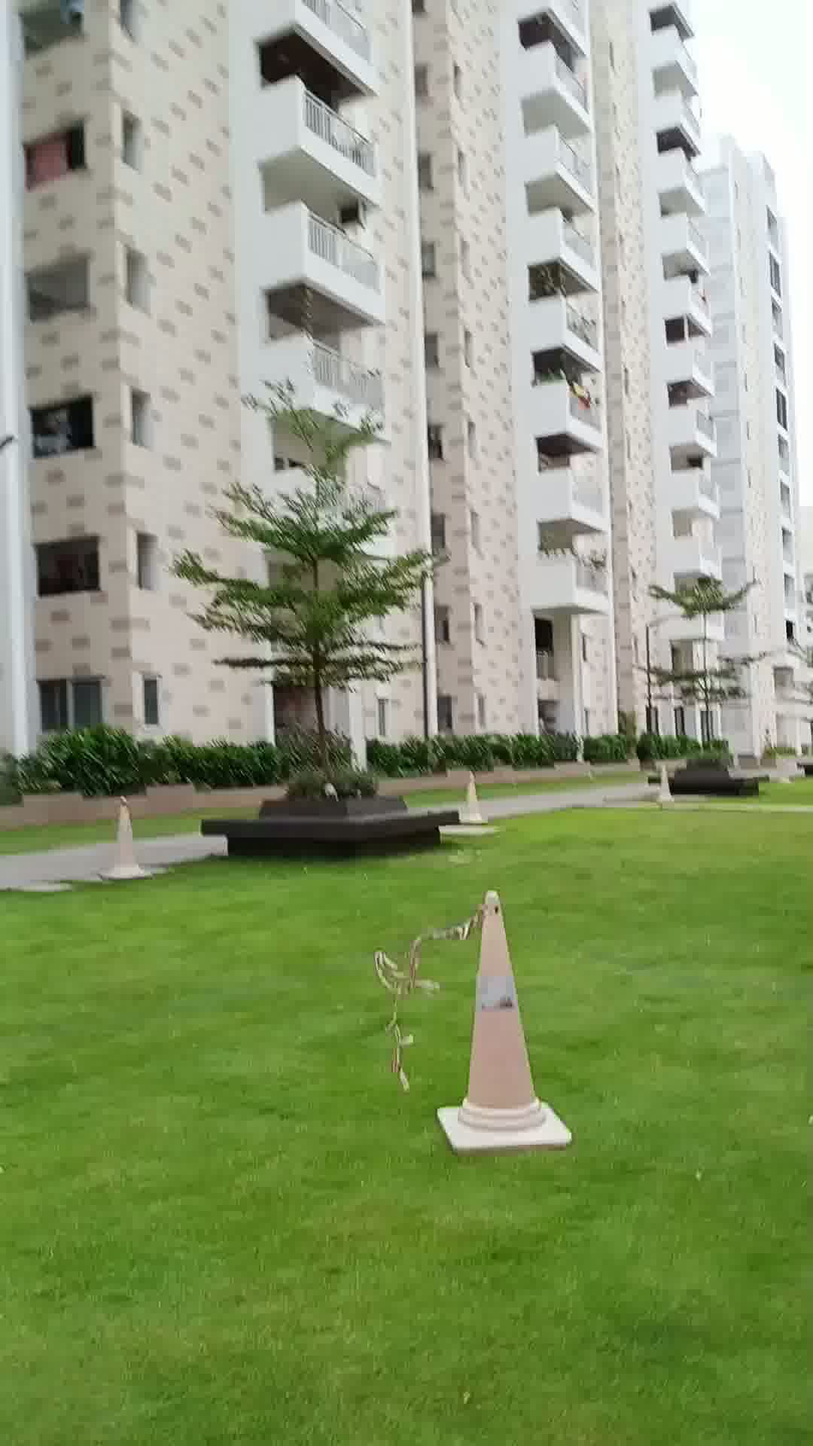tree: (211, 376, 455, 766), (634, 544, 777, 746)
